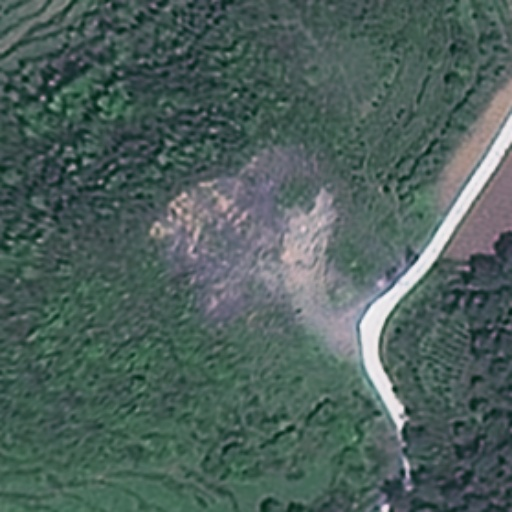landslide: (159, 153, 351, 333)
